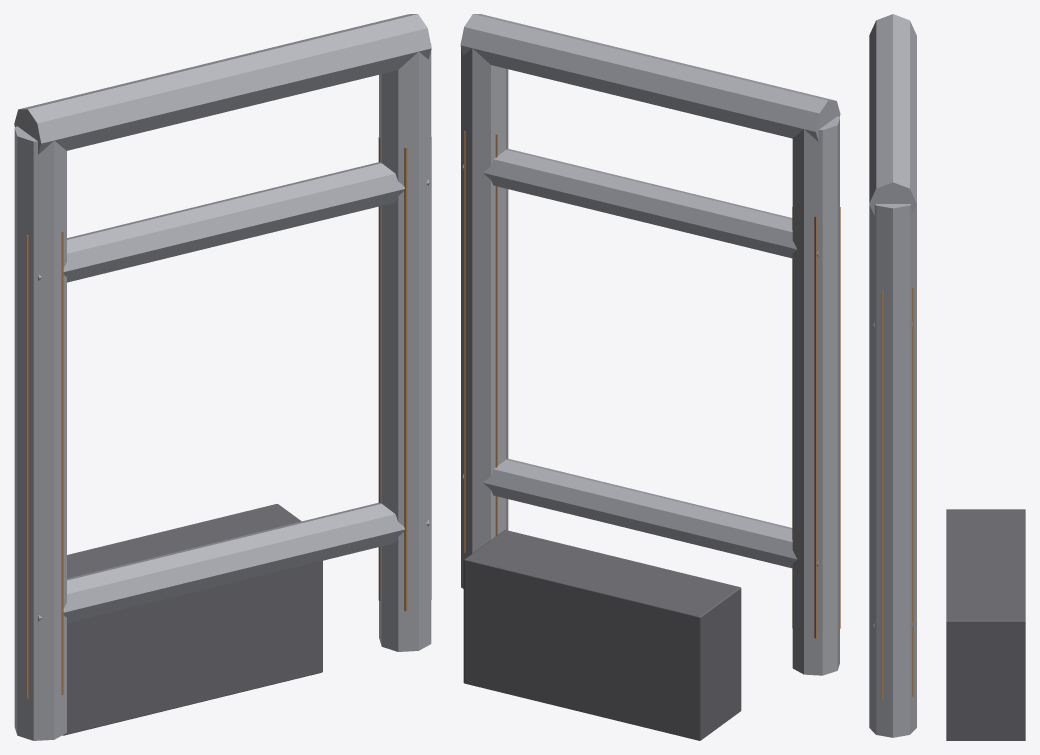
File: cage-rig.glb
3 renders of one model, left to right at view 1: azimuth 30°, elevation 25°; view 2: azimuth 150°, elevation 25°; view 3: azimuth 270°, elevation 25°, orthographic. The views are drawn at different scales.
Parts seen in each view (by area): view 1: mount, up-0.14, up0.14, topbar, cross0.3, cross0.05, brace0.14, brace-0.14; view 2: mount, up-0.14, up0.14, topbar, cross0.3, cross0.05, brace-0.14, brace0.14; view 3: up0.14, mount, topbar, brace0.14.
Part boxes in pixels (box(x1,y1,x2,y2)): mount: box(62, 504, 322, 735); up-0.14: box(14, 126, 66, 740); up0.14: box(379, 43, 431, 651); topbar: box(14, 14, 431, 154); cross0.3: box(38, 162, 429, 282); cross0.05: box(38, 502, 429, 622); brace0.14: box(378, 137, 431, 611); brace-0.14: box(26, 231, 63, 698); mount: box(463, 530, 741, 740); up-0.14: box(792, 116, 839, 675); up0.14: box(461, 41, 508, 588); topbar: box(460, 14, 840, 141); cross0.3: box(462, 148, 818, 258); cross0.05: box(462, 458, 818, 568); brace-0.14: box(792, 206, 840, 638); brace0.14: box(464, 131, 497, 552); up0.14: box(869, 204, 916, 737); mount: box(946, 509, 1025, 740); topbar: box(869, 14, 916, 215); brace0.14: box(881, 287, 913, 700).
Size of the model in its own units: 0.316 by 0.488 by 0.118.
